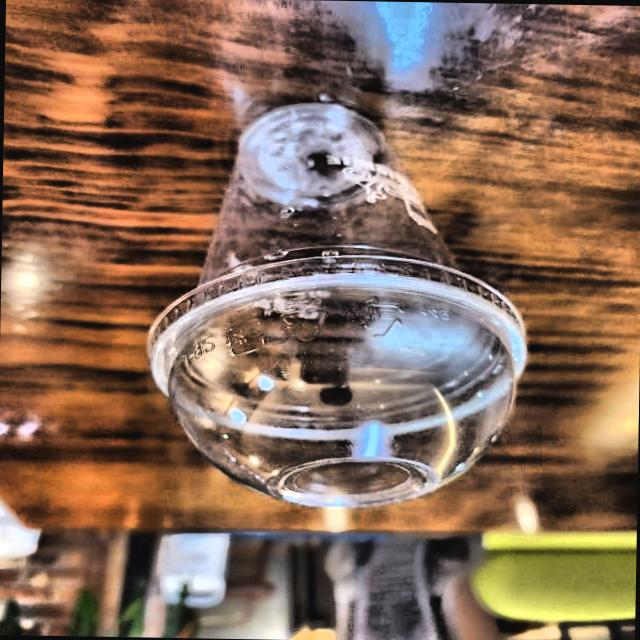plastic cup: (128, 70, 552, 539)
